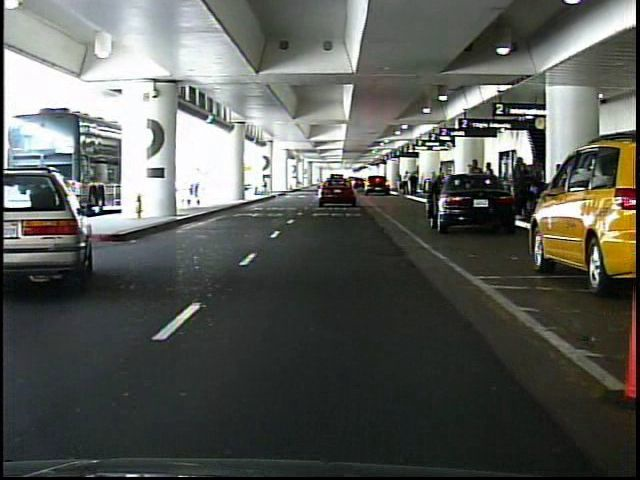person: (523, 154, 543, 220), (509, 158, 530, 218), (468, 157, 486, 211), (483, 161, 498, 209), (403, 170, 412, 197), (411, 173, 419, 198), (397, 175, 404, 193)
